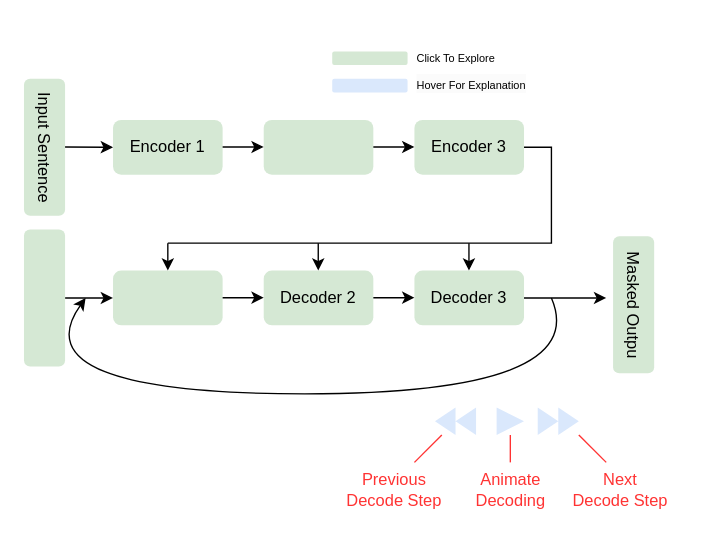
Some shapes in this 704 by 540 pixel diagram are drawn without their labels. The shapes that lost their labels are listed below. From the top down, each one's centre as x and y in pixels, then its label:
At (x=318, y=146): "Encoder 2".
At (x=43, y=297): "Masked Input".
At (x=167, y=297): "Decoder 1".
